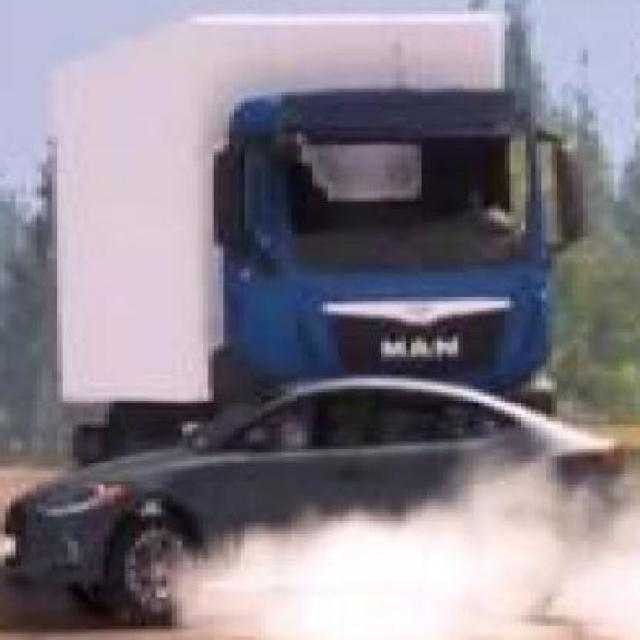accident: (37, 40, 640, 619)
